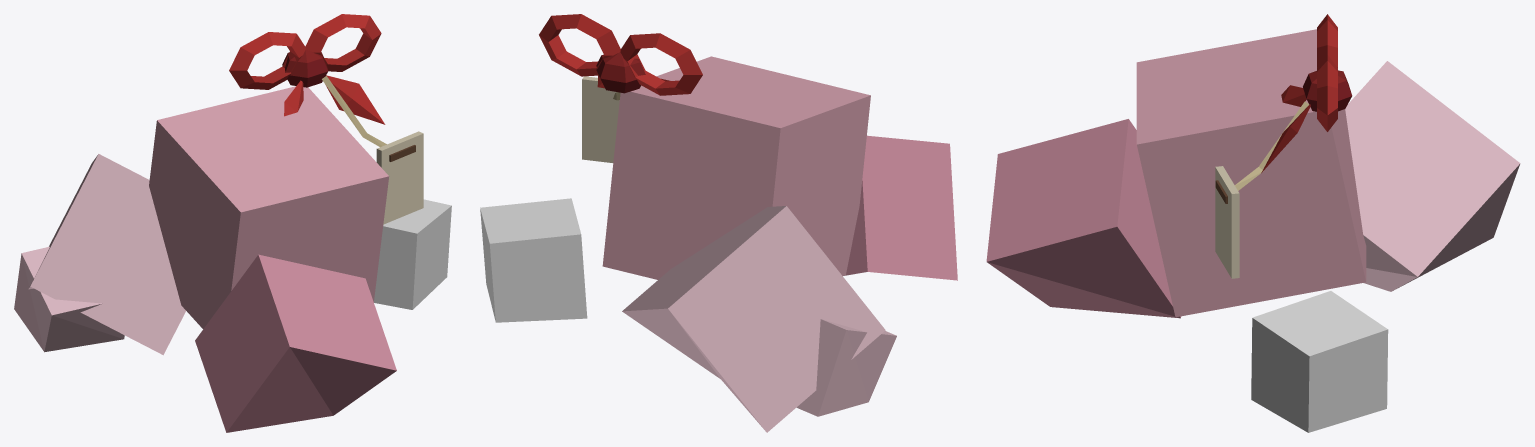
File: quest_pink_salt.glb
3 renders of one model, left to right at view 1: azimuth 30°, elevation 25°; view 2: azimuth 150°, elevation 25°; view 3: azimuth 270°, elevation 25°, orthographic. The views are drawn at different scales.
Parts seen in each view (by area): view 1: quest_pink_salt; view 2: quest_pink_salt; view 3: quest_pink_salt.
Part boxes in pixels (x1=…): quest_pink_salt: x1=14, y1=14, x2=451, y2=432; quest_pink_salt: x1=480, y1=14, x2=957, y2=432; quest_pink_salt: x1=986, y1=14, x2=1520, y2=432.
Bounding box in the file's own units: 0.3923 × 0.2635 × 0.4.
